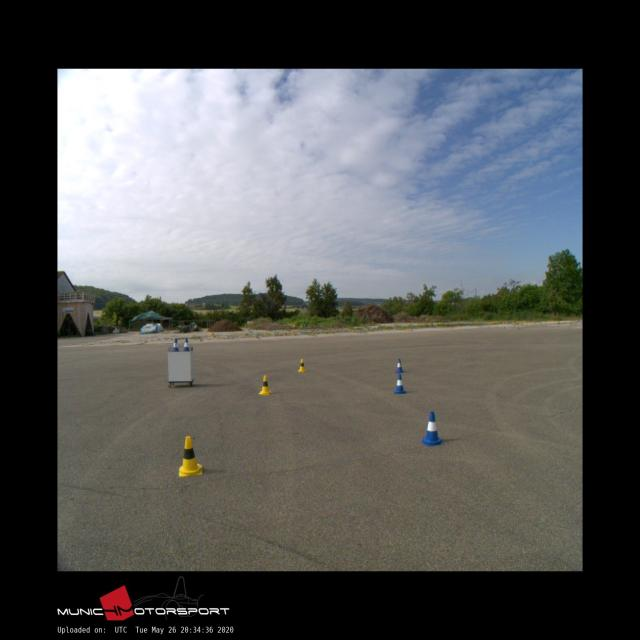blue_cone: (421, 411, 443, 446), (394, 374, 406, 393), (395, 358, 403, 372), (183, 338, 190, 351), (173, 338, 179, 351)
yellow_cone: (179, 436, 202, 476), (258, 375, 272, 394), (298, 358, 305, 371)
